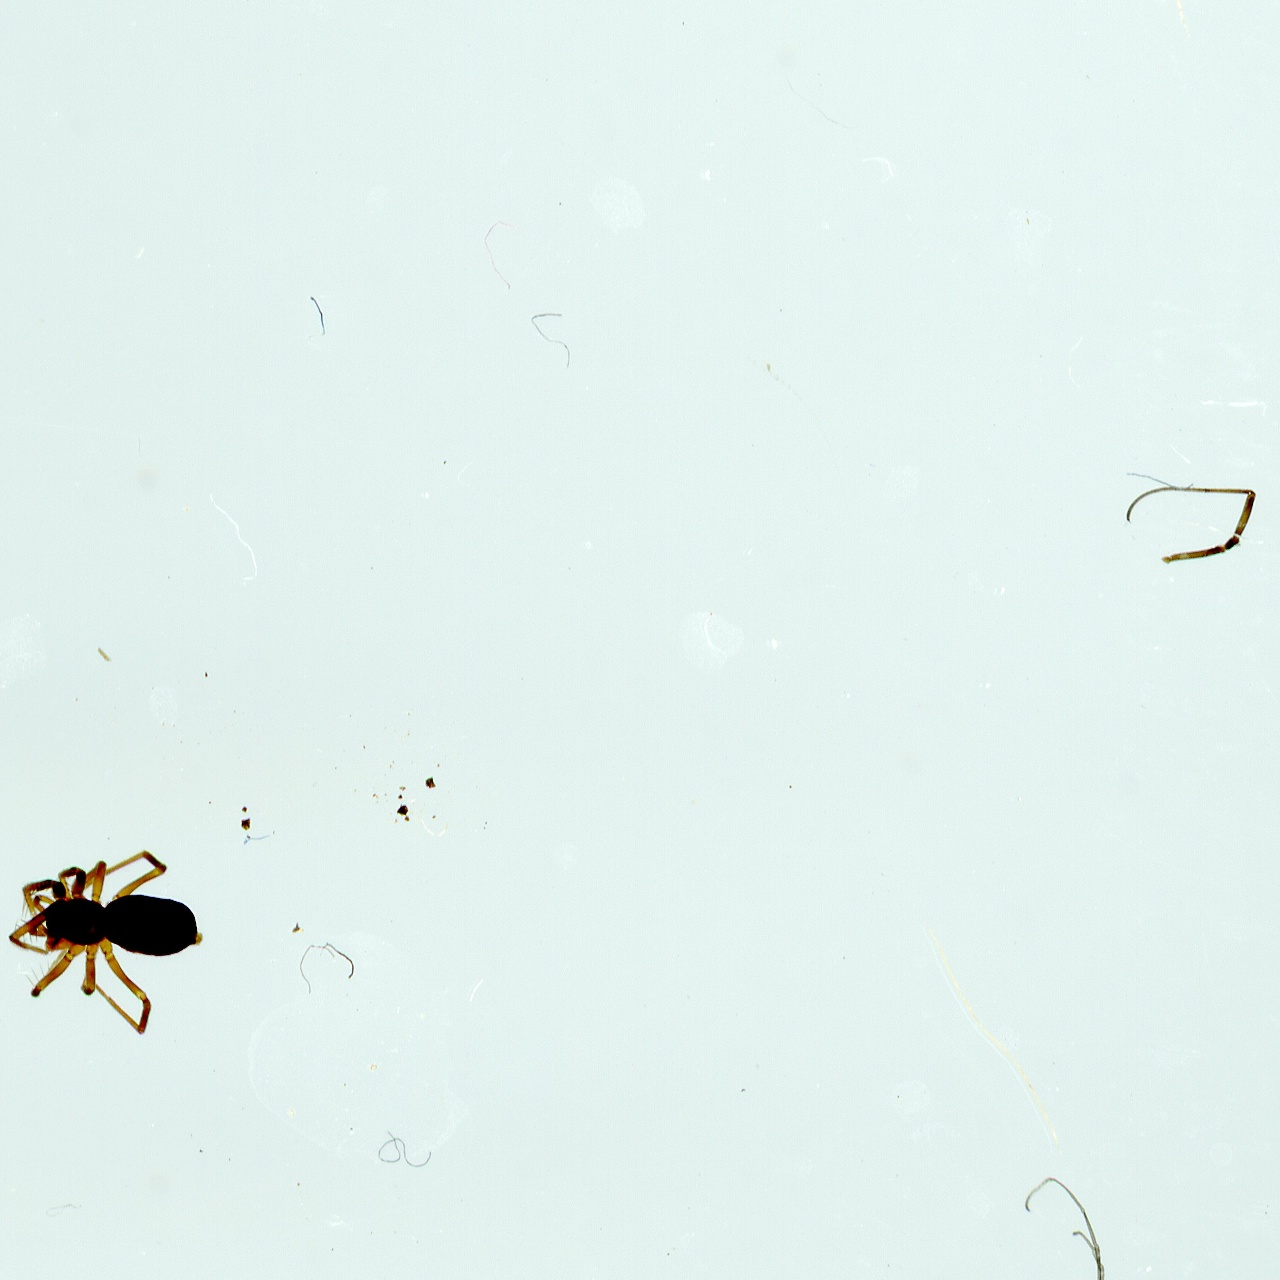arthropod: (0, 805, 216, 1042), (1010, 1142, 1200, 1280)
